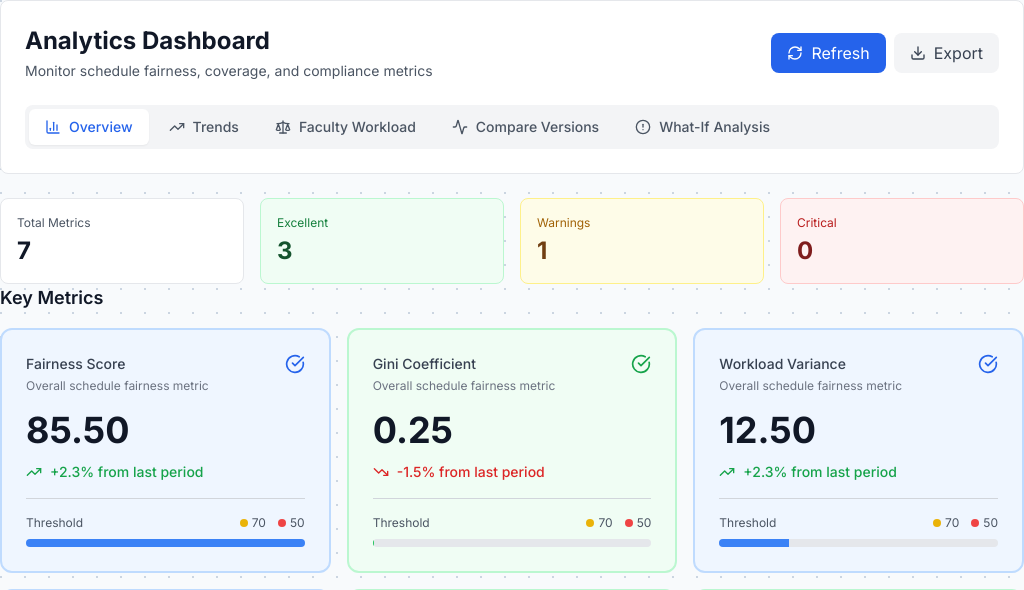
AnalyticsDashboard › View Content Rendering › should show trends content when trends tab selected
This screenshot has width=1024, height=590.
Expected: the text "Trends" is shown, left=192, top=117, right=239, bottom=137
Click the tab "Trends": (204, 127) left=152, top=109, right=255, bottom=145
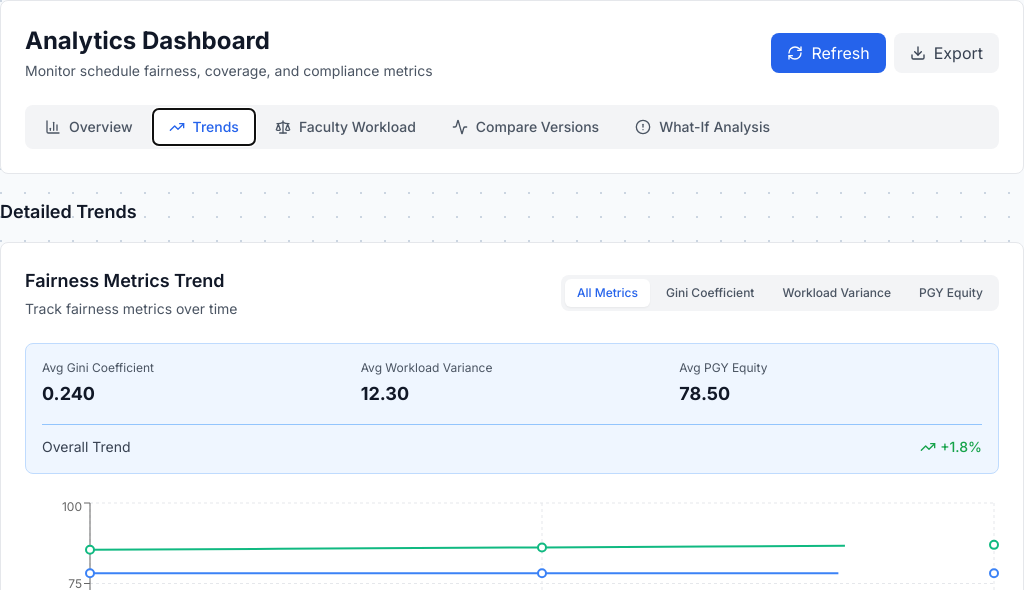
Result: the heading "Detailed Trends" is shown at left=0, top=201, right=137, bottom=222
